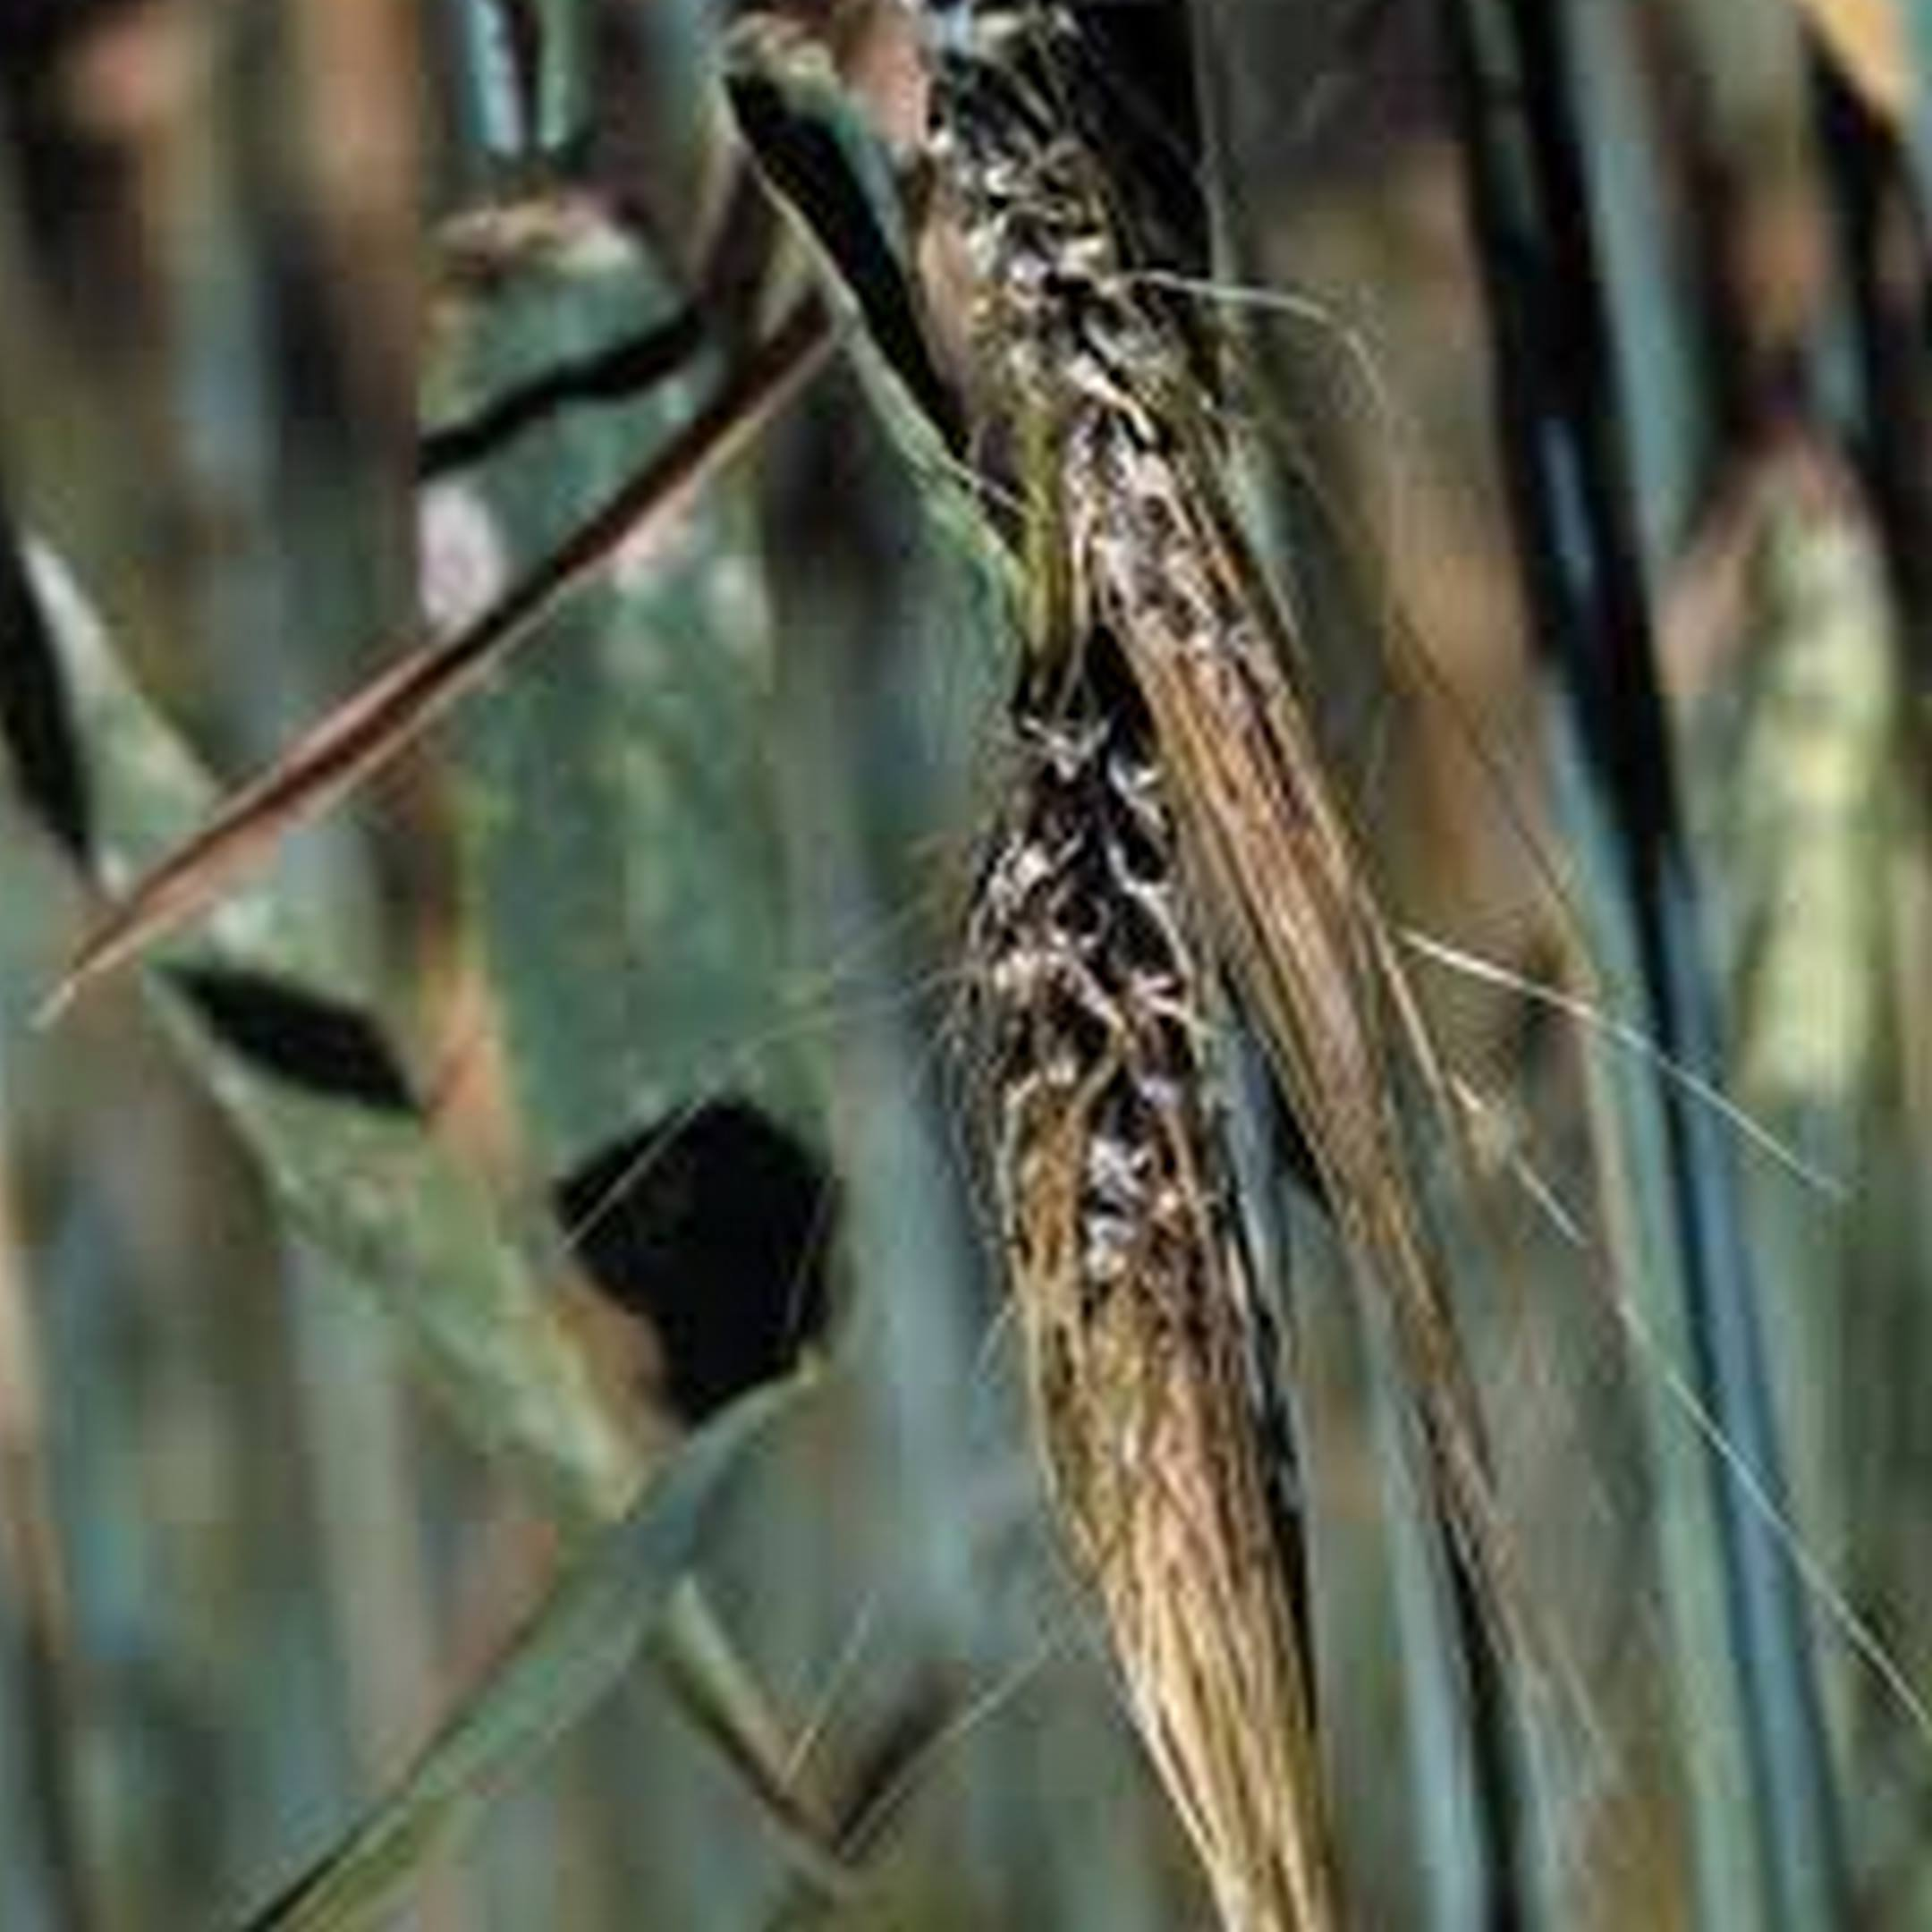Wheat Loose Smut: (938, 635, 1256, 1313), (909, 48, 1265, 557)
